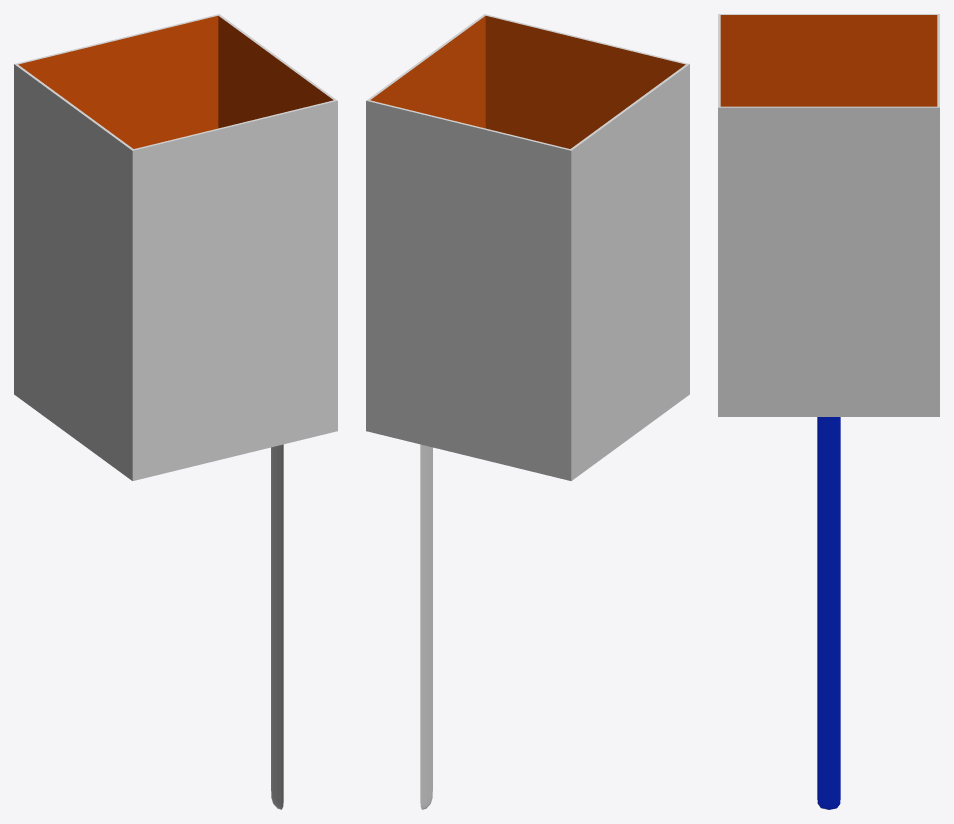
The model's file is Paper Lantern w Tail.fbx.
The picture shows the model from 3 angles, left to right: view 1: azimuth 30°, elevation 25°; view 2: azimuth 150°, elevation 25°; view 3: azimuth 270°, elevation 25°; orthographic projection. The views are drawn at different scales.
Parts seen in each view (by area): view 1: Plane, Lantern Tail; view 2: Plane, Lantern Tail; view 3: Plane, Lantern Tail.
Boxes of the visible parts, x1=… form: Plane: x1=14, y1=14, x2=337, y2=480; Lantern Tail: x1=271, y1=444, x2=283, y2=809; Plane: x1=366, y1=14, x2=689, y2=480; Lantern Tail: x1=420, y1=444, x2=432, y2=809; Plane: x1=718, y1=14, x2=939, y2=416; Lantern Tail: x1=817, y1=417, x2=840, y2=809.
Bounding box in the file's own units: 200 × 699 × 200.
